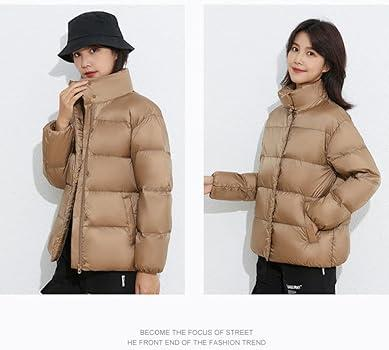coat: (207, 79, 382, 269), (40, 66, 175, 274)
trousers: (41, 255, 141, 296), (249, 256, 338, 295)
